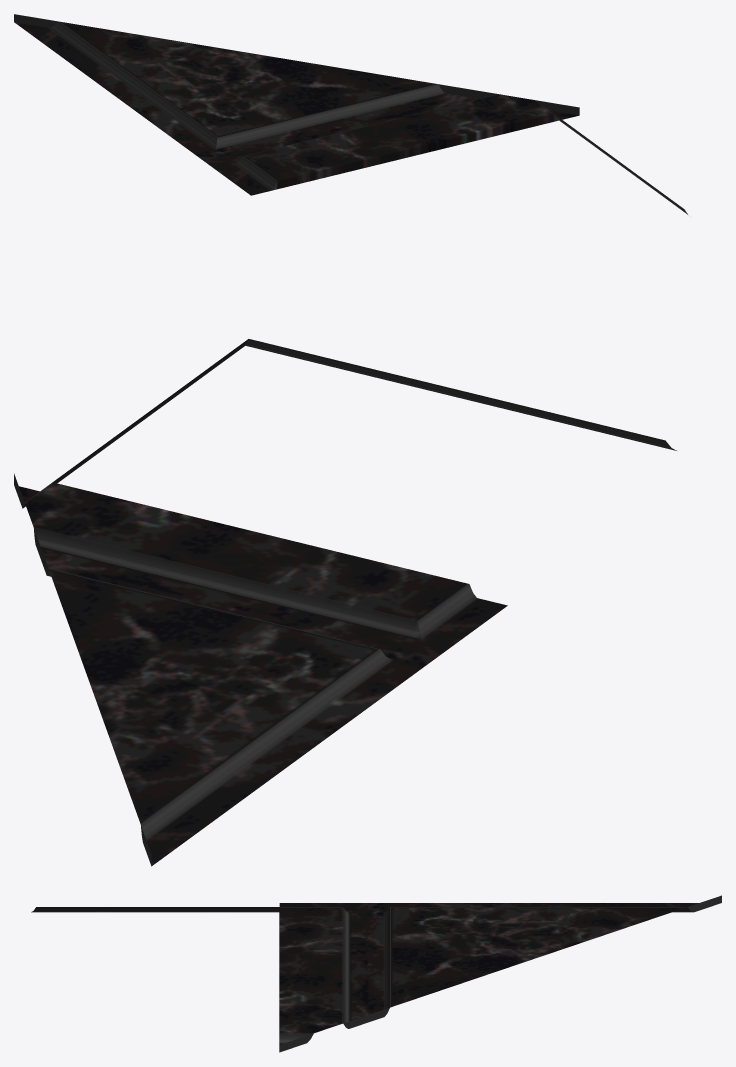
Rendered from sec1_1c_slice320high.fbx.
3 renders of one model, top to bottom at view 1: azimuth 30°, elevation 25°; view 2: azimuth 150°, elevation 25°; view 3: azimuth 270°, elevation 25°, orthographic. The views are drawn at different scales.
Visible parts, largest first — view 1: sec1_1c_slice320high_mesh, sec1_1c_slice320high_meshgapfiller, sec1_1c_slice320high_mesh_extension; view 2: sec1_1c_slice320high_mesh, sec1_1c_slice320high_mesh_extension; view 3: sec1_1c_slice320high_mesh, sec1_1c_slice320high_mesh_extension.
Boxes of the visible parts, left/top/right/bottom form: sec1_1c_slice320high_mesh: left=14, top=14, right=579, bottom=195; sec1_1c_slice320high_meshgapfiller: left=272, top=114, right=558, bottom=190; sec1_1c_slice320high_mesh_extension: left=554, top=114, right=687, bottom=214; sec1_1c_slice320high_mesh: left=14, top=473, right=507, bottom=866; sec1_1c_slice320high_mesh_extension: left=53, top=339, right=676, bottom=483; sec1_1c_slice320high_mesh: left=279, top=895, right=721, bottom=1052; sec1_1c_slice320high_mesh_extension: left=31, top=907, right=279, bottom=912.
Size of the model in its own units: 256 by 6 by 512.
